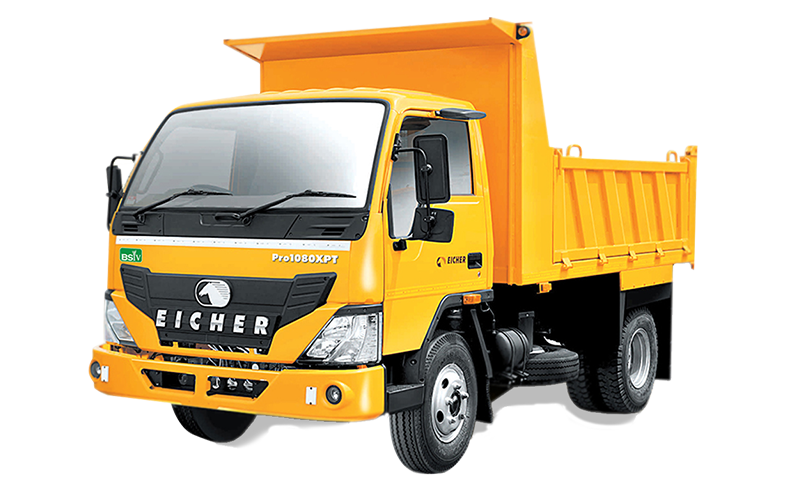truck: (90, 17, 696, 474)
